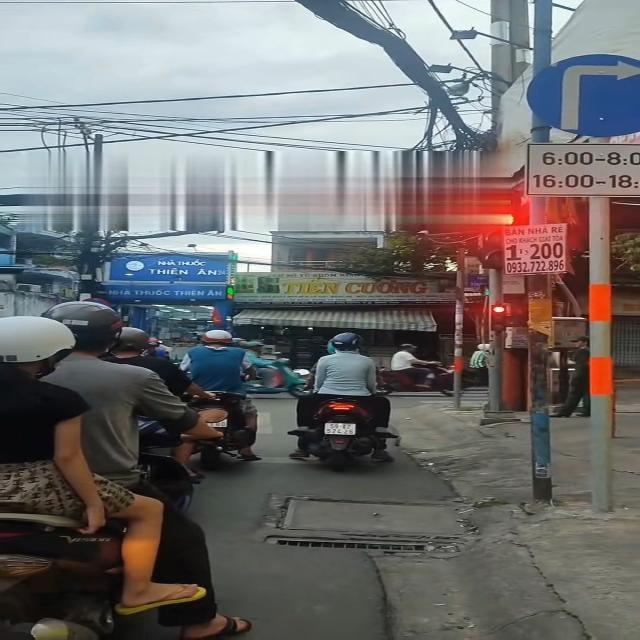301d-cac-xe-chi-duoc-re-phai-2: (527, 52, 640, 138)
